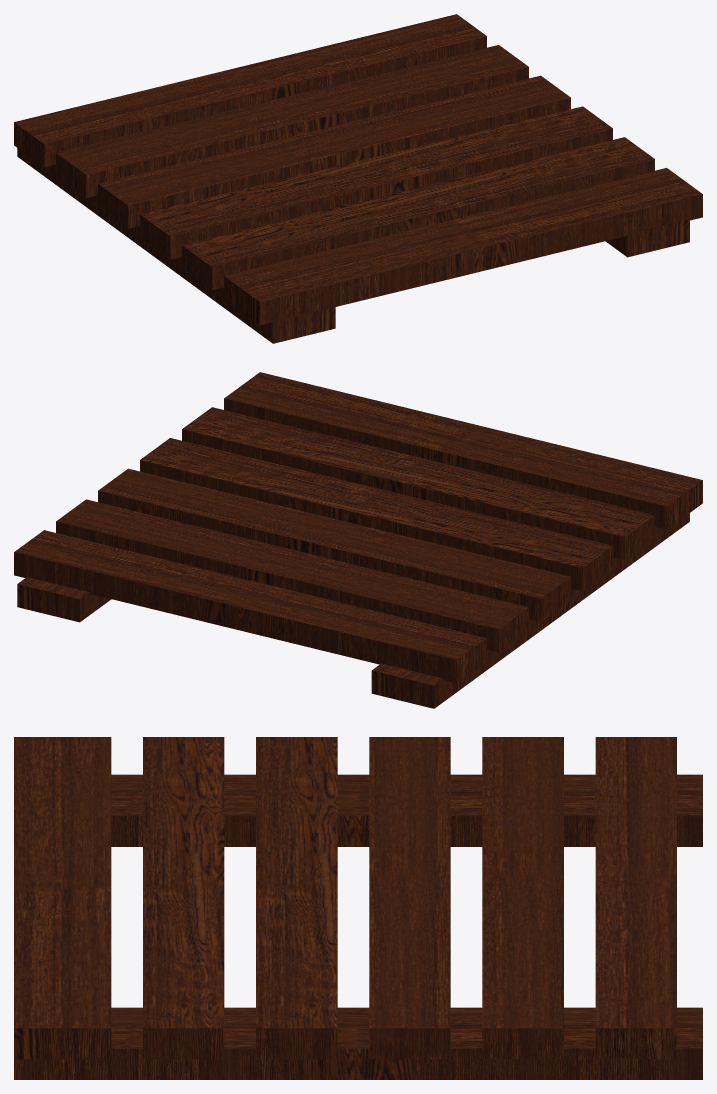
Rendered from MuelleTile.fbx.
3 views of the same model, one above another, from view 1: azimuth 30°, elevation 25°; view 2: azimuth 150°, elevation 25°; view 3: azimuth 270°, elevation 25° (orthographic). The views are drawn at different scales.
Parts seen in each view (by area): view 1: MuelleTile; view 2: MuelleTile; view 3: MuelleTile.
Boxes of the visible parts, box(x1,y1,x2,y2) form: MuelleTile: box(14, 14, 702, 343); MuelleTile: box(14, 372, 702, 708); MuelleTile: box(14, 737, 702, 1079).
Bounding box in the file's own units: 300 × 28.97 × 300.
